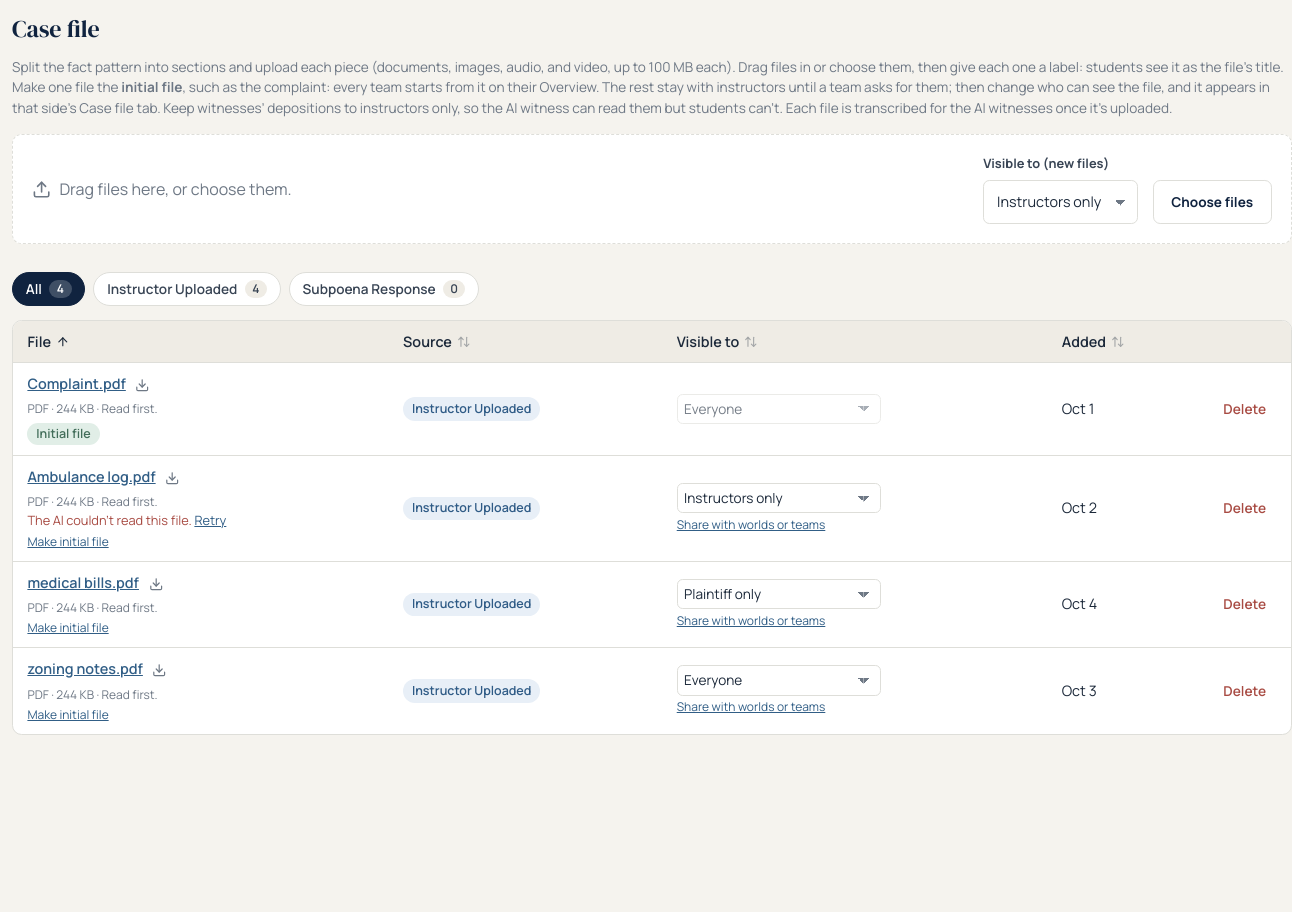
Test: MaterialsSection › puts the initial file first and the rest by name, sorts by the heading clicked, and shows only failed reading
expect the button "Complaint.pdf" is shown: met, box x1=27 y1=373 x2=126 y2=395
Click the button "Added" at (1093, 342), box x1=1062 y1=331 x2=1124 y2=352
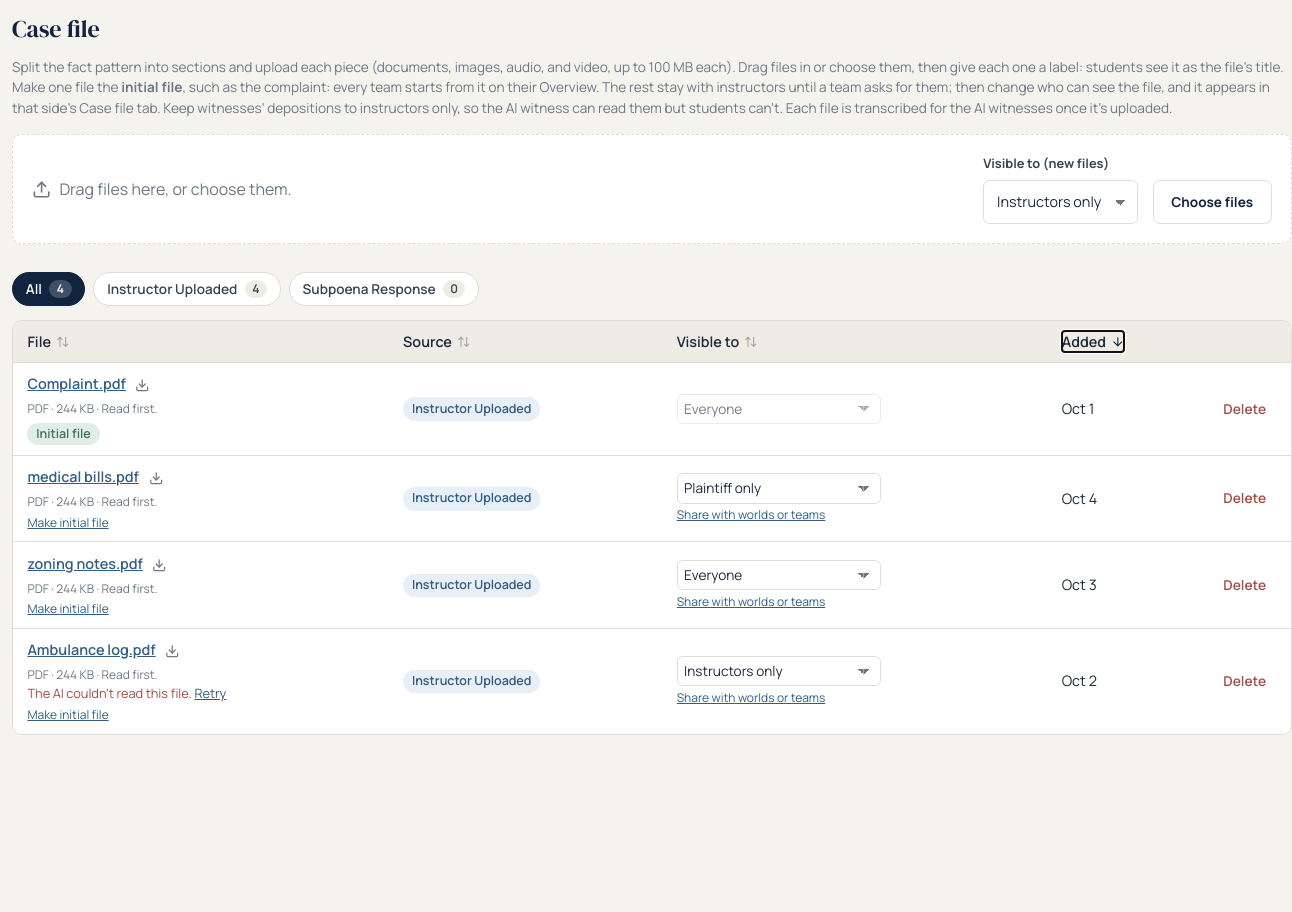
expect the column heading "Added" has attribute aria-sort="descending": met, box x1=1047 y1=321 x2=1198 y2=362
Click the button "Added" at (1093, 342), box x1=1062 y1=331 x2=1124 y2=352
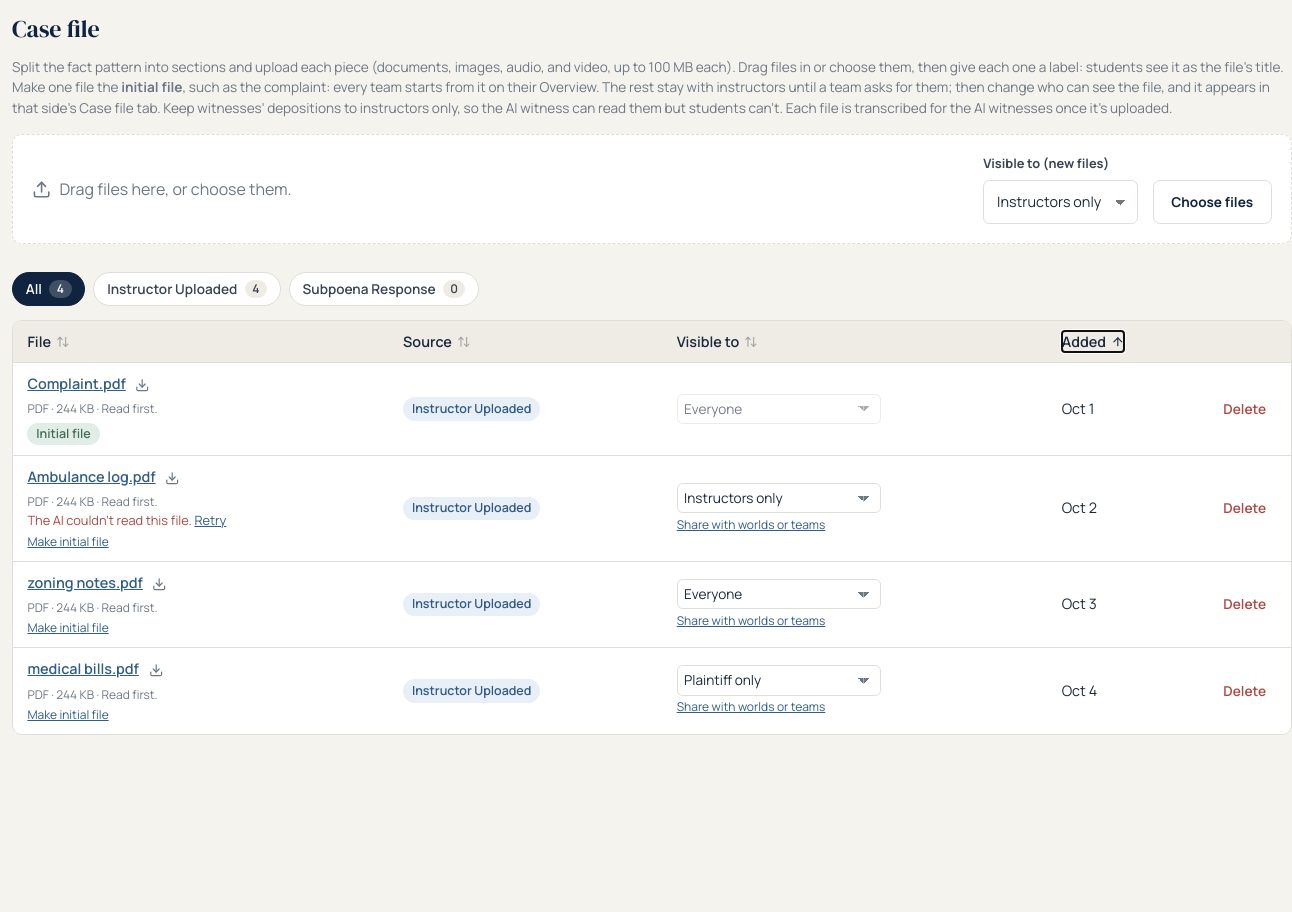
Note: Words A to Z: "Everyone", "Instructors only", "Plaintiff only".
Click the button "Visible to" at (717, 342), box x1=677 y1=331 x2=758 y2=352
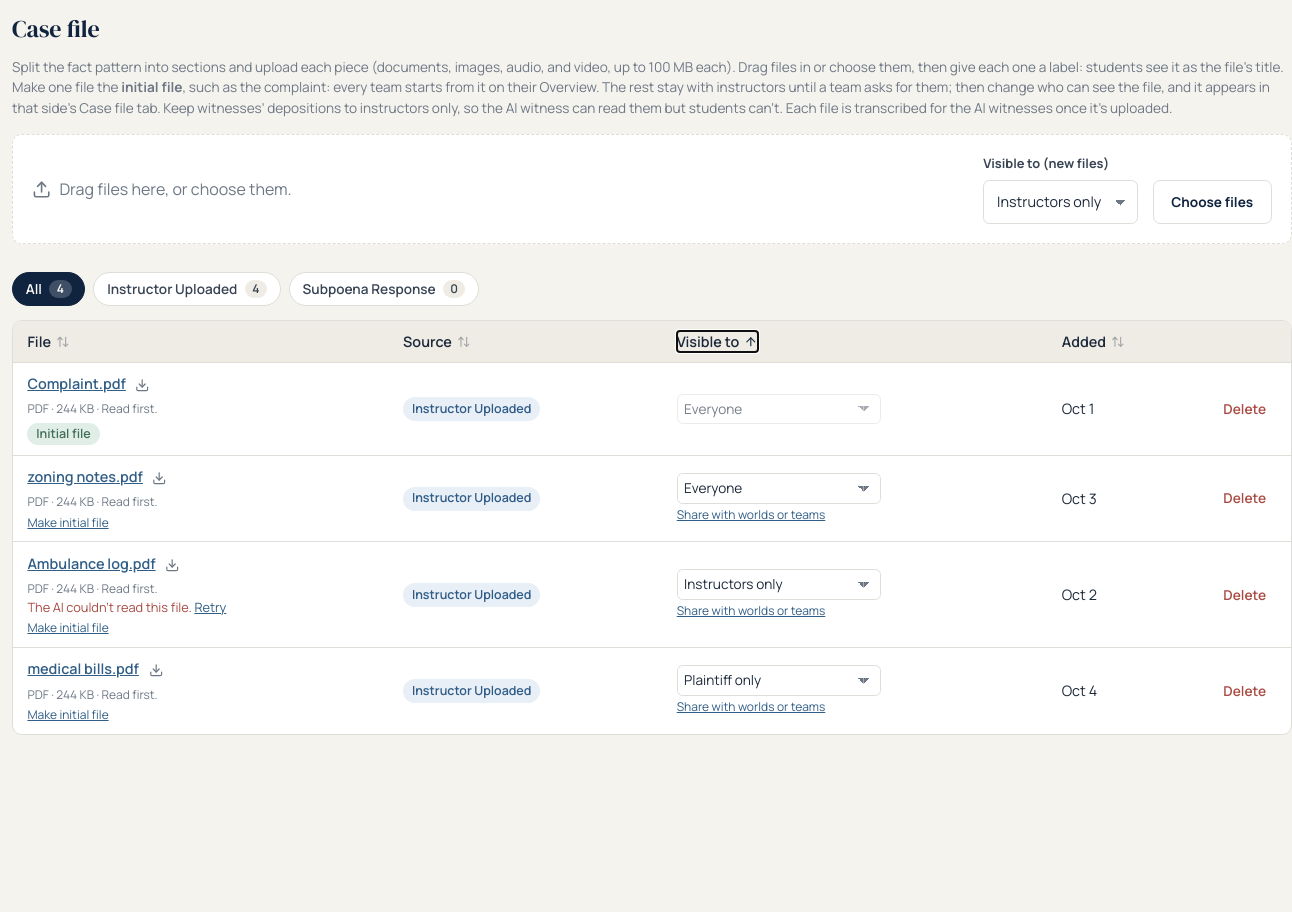
expect the text "The AI couldn’t read this file. Retry" is shown once: met, box x1=27 y1=598 x2=226 y2=617
Click the button with aria-label "Read Ambulance log.pdf again" at (210, 608), box x1=194 y1=598 x2=226 y2=617
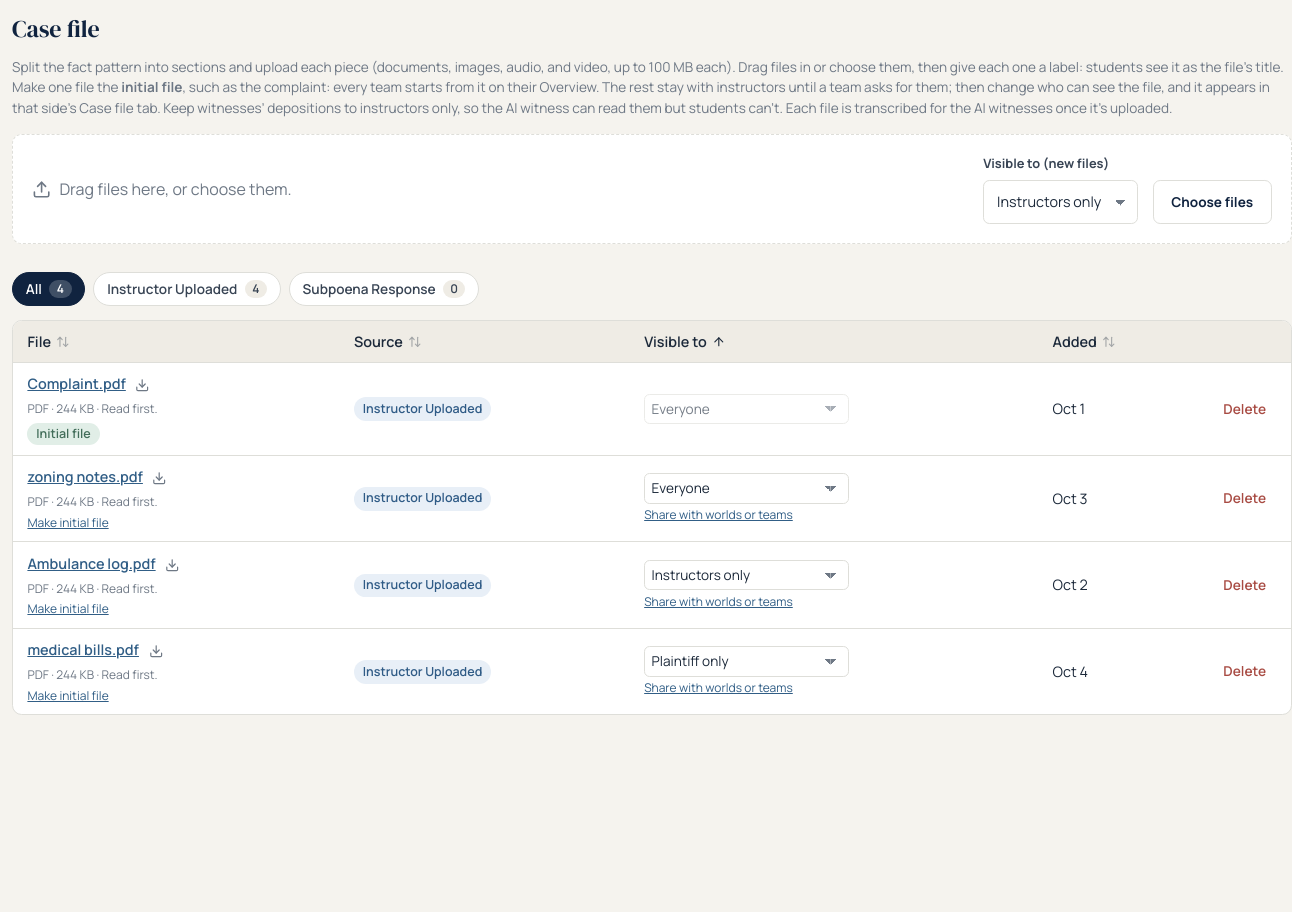
expect the text "couldn’t read this file" is gone: met
